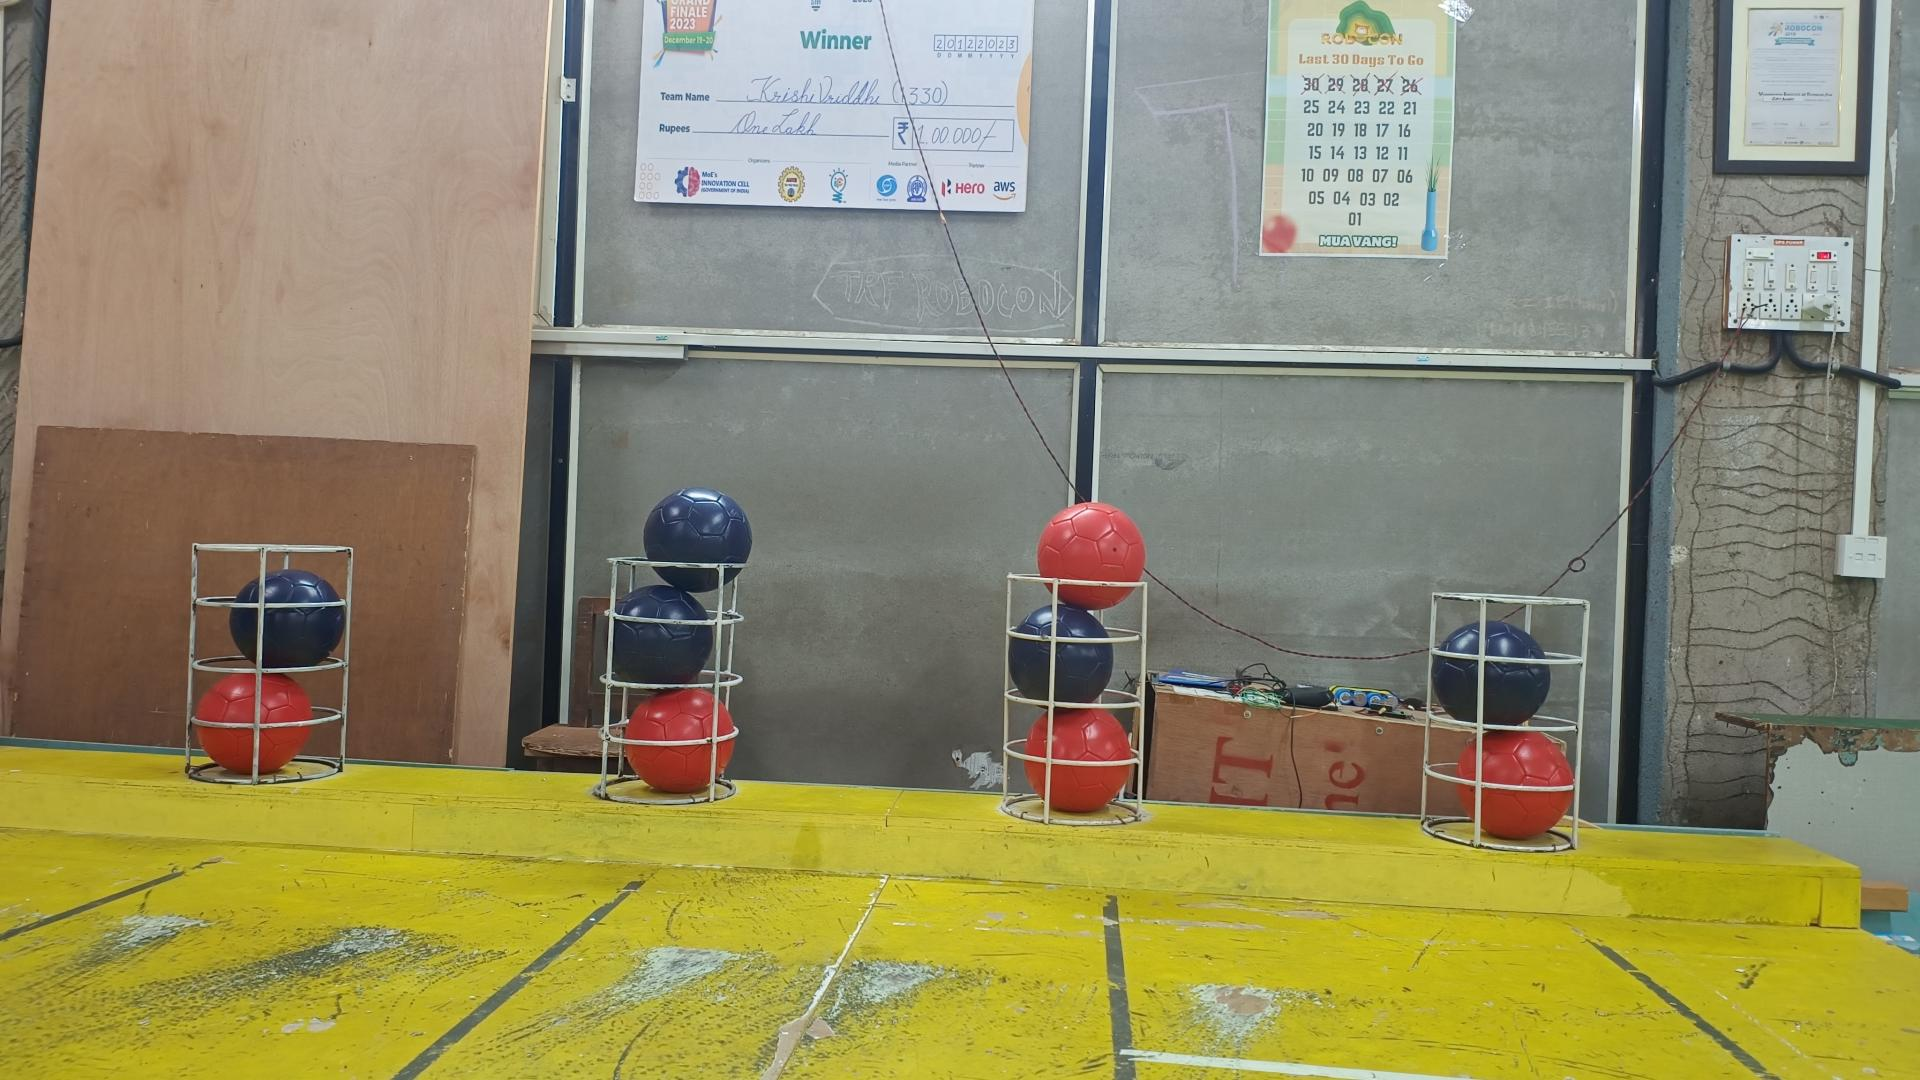dhoka: (1431, 621, 1551, 725), (228, 567, 345, 669), (644, 485, 753, 593), (1007, 603, 1117, 708), (601, 583, 715, 684)
laale: (1455, 729, 1575, 841), (193, 676, 313, 777), (622, 688, 735, 794), (1036, 500, 1145, 608), (1023, 707, 1133, 812)
